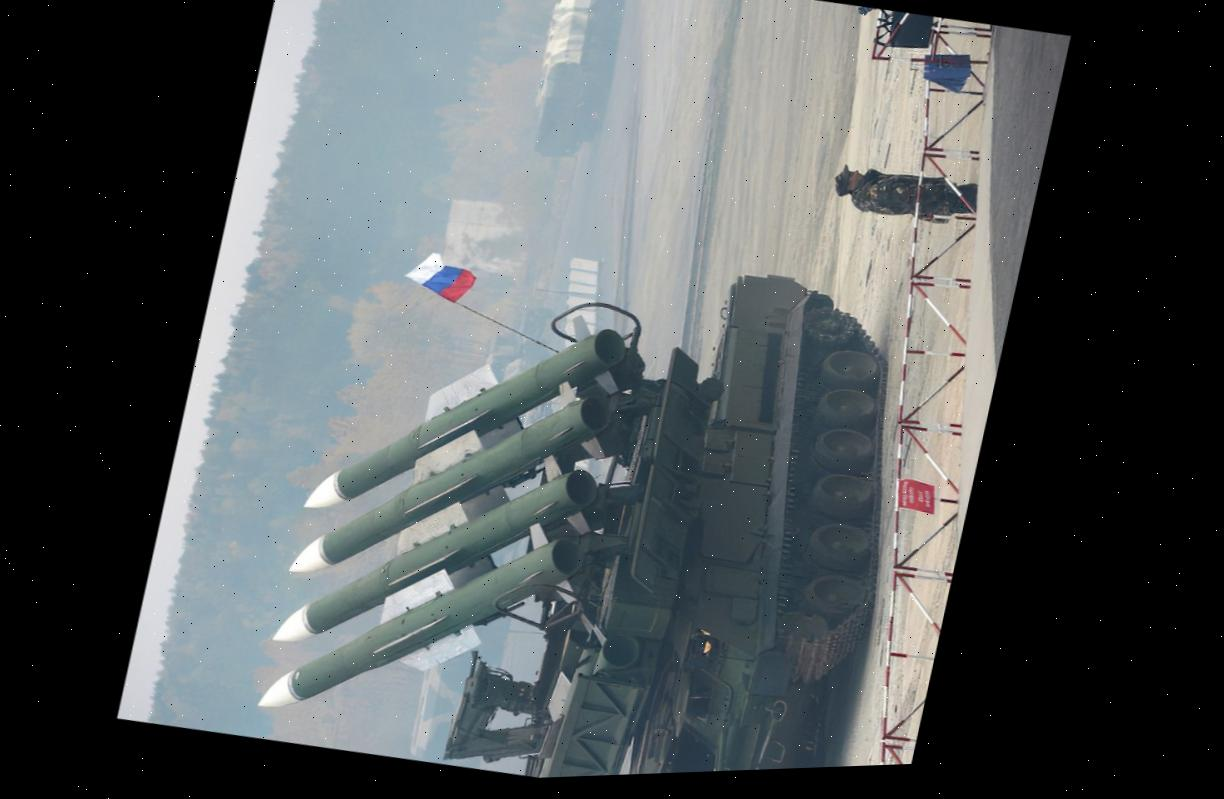armored_car: (236, 183, 945, 790)
